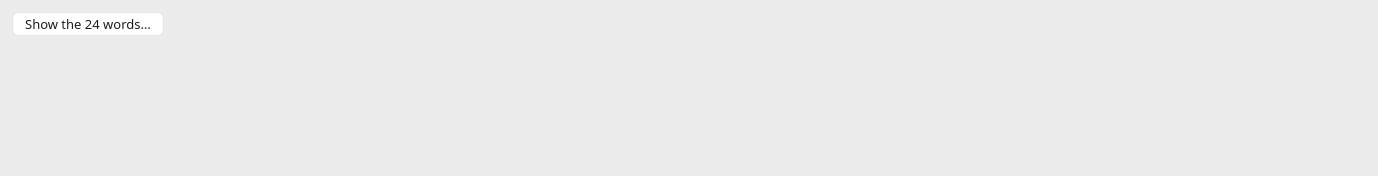
WordsReveal › shows the backend's error instead of the words when loading fails
Step 1. Click the button "Show the 24 words…" → click(88, 24), box [12, 12, 164, 36]
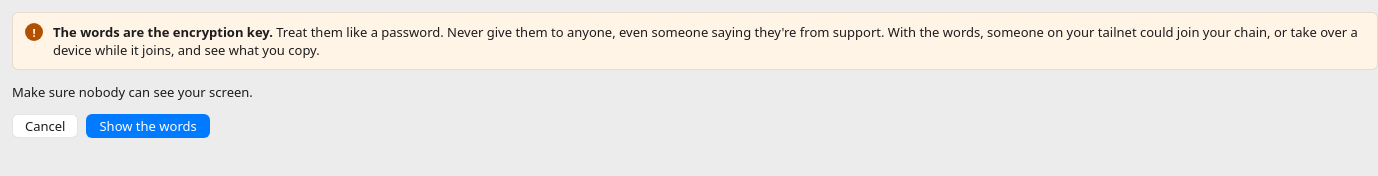
Step 2. Click the button "Show the words" → click(148, 126), box [86, 114, 210, 138]
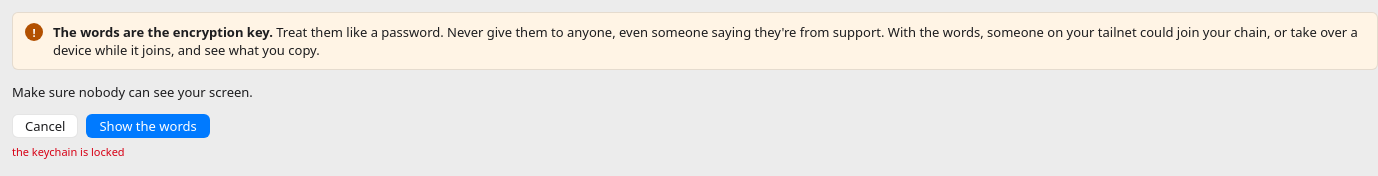
Expected: the button "the 24 words" is not shown
Result: the message "the keychain is locked" is shown at [12, 144, 125, 159]
